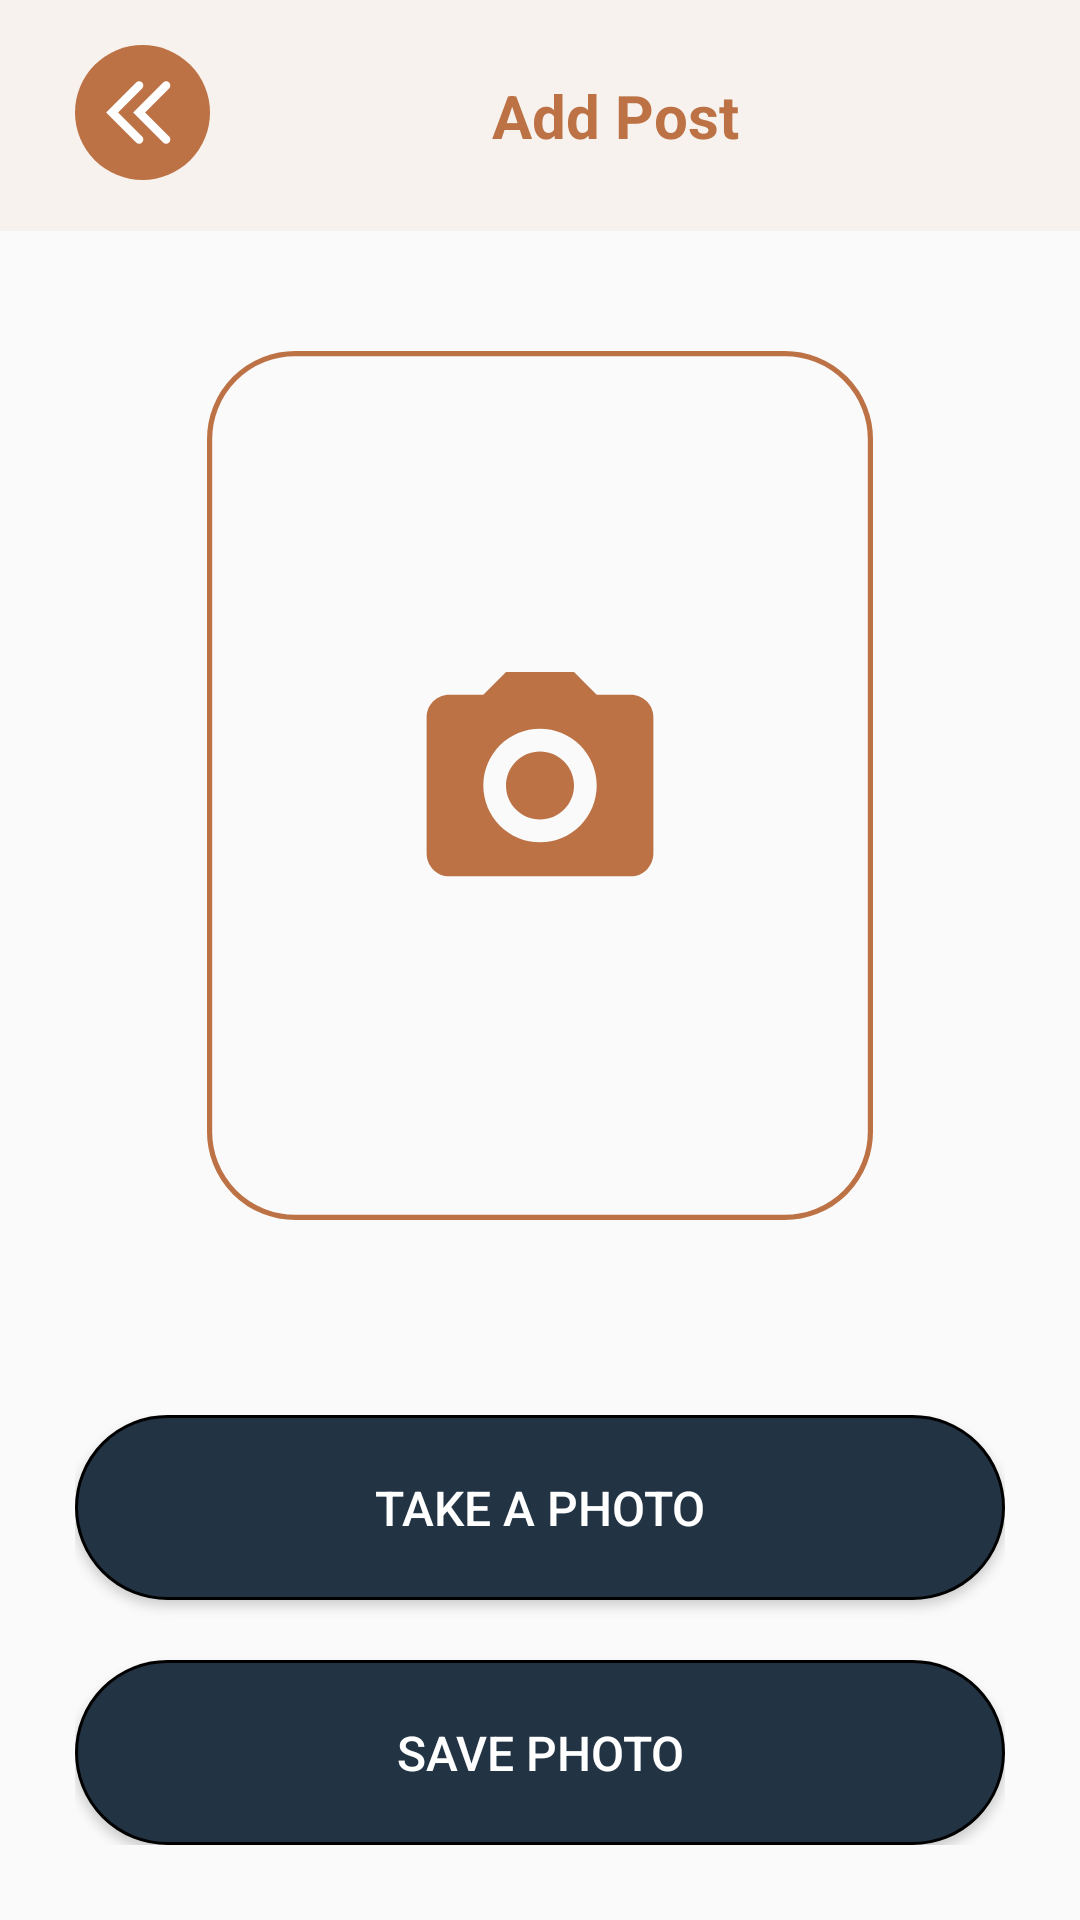

Icon bounding boxes for this 1080px x 1920px phone screenshot, format (x1, y1, x2, y2):
back button: (75, 45, 210, 180)
